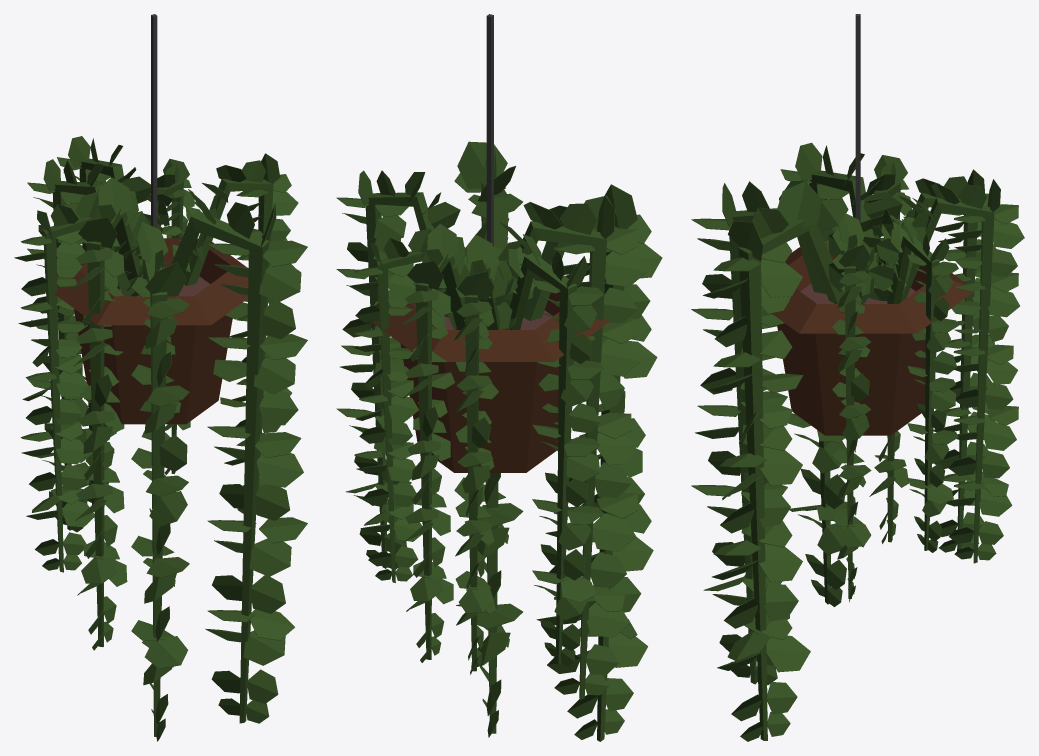
File: FlowerPot2.glb
3 views of the same model, side by side, from view 1: azimuth 30°, elevation 25°; view 2: azimuth 150°, elevation 25°; view 3: azimuth 270°, elevation 25° (orthographic). The views are drawn at different scales.
Visible parts, largest first — view 1: FlowerPot2; view 2: FlowerPot2; view 3: FlowerPot2.
Boxes of the visible parts, x1,y1,x2,y2 form: FlowerPot2: (14, 14, 307, 741); FlowerPot2: (336, 14, 662, 741); FlowerPot2: (691, 14, 1024, 741).
Bounding box in the file's own units: 0.8771 × 2.26 × 0.9693.
